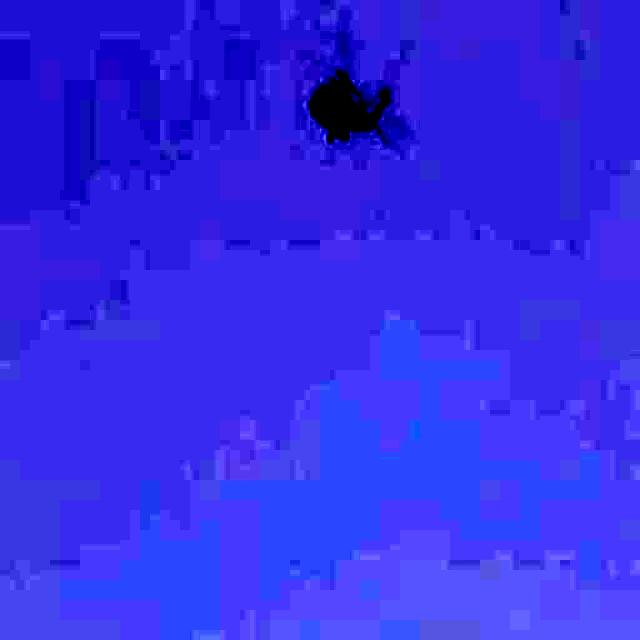drone: (291, 32, 415, 172)
